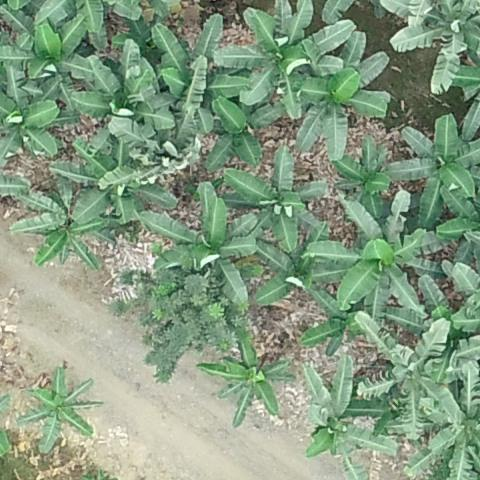Banana-plant: (218, 11, 353, 105), (346, 314, 453, 432), (311, 201, 425, 309), (298, 33, 391, 153), (155, 195, 254, 304), (52, 141, 168, 227), (388, 121, 480, 219), (0, 6, 91, 100), (229, 156, 320, 244), (392, 0, 480, 91), (308, 367, 385, 470), (152, 22, 252, 100), (80, 45, 163, 138), (15, 185, 104, 267), (210, 339, 287, 425), (0, 71, 64, 165), (23, 367, 92, 453), (254, 233, 336, 300), (431, 377, 480, 480), (208, 99, 281, 166), (329, 147, 388, 210), (302, 290, 362, 349)
